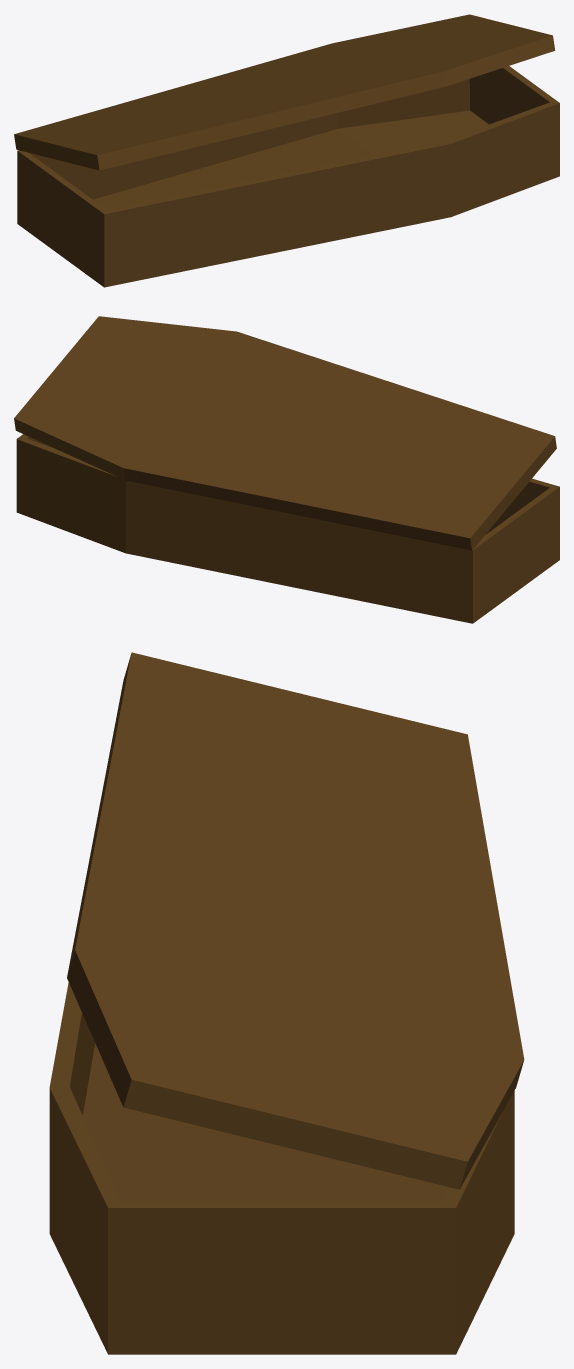
Rendered from Old Fashioned Coffin.glb.
3 views of the same model, one above another, from view 1: azimuth 30°, elevation 25°; view 2: azimuth 150°, elevation 25°; view 3: azimuth 270°, elevation 25° (orthographic). The views are drawn at different scales.
Visible parts, largest first — view 1: Old Fashioned Coffin, Old Fashion Coffin Lid; view 2: Old Fashion Coffin Lid, Old Fashioned Coffin; view 3: Old Fashion Coffin Lid, Old Fashioned Coffin.
Boxes of the visible parts, bbox=[...] form: Old Fashioned Coffin: bbox=[17, 66, 559, 287]; Old Fashion Coffin Lid: bbox=[14, 14, 555, 170]; Old Fashion Coffin Lid: bbox=[14, 316, 556, 550]; Old Fashioned Coffin: bbox=[16, 434, 559, 623]; Old Fashion Coffin Lid: bbox=[67, 652, 524, 1189]; Old Fashioned Coffin: bbox=[49, 982, 514, 1354].
Bounding box in the file's own units: 2.68 × 0.7937 × 1.21.
